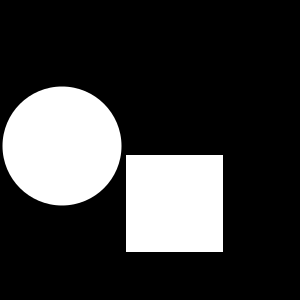circle: (126, 155, 223, 252)
rectangle: (2, 86, 122, 206)
